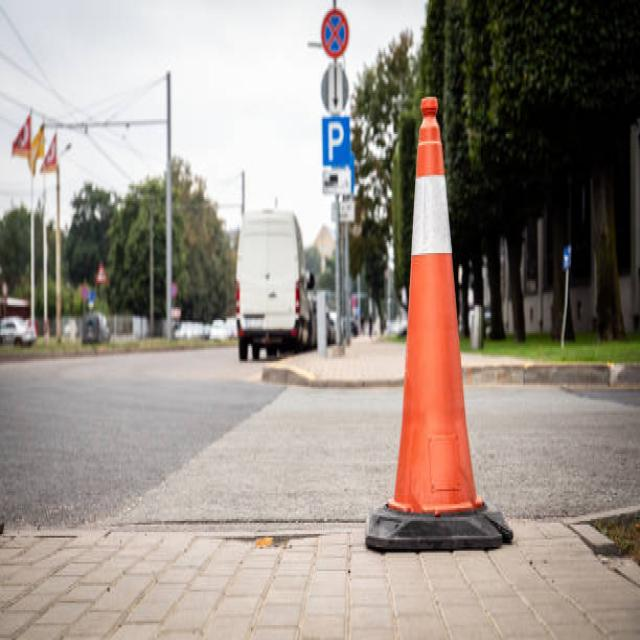Traffic Cone: (355, 62, 528, 570)
